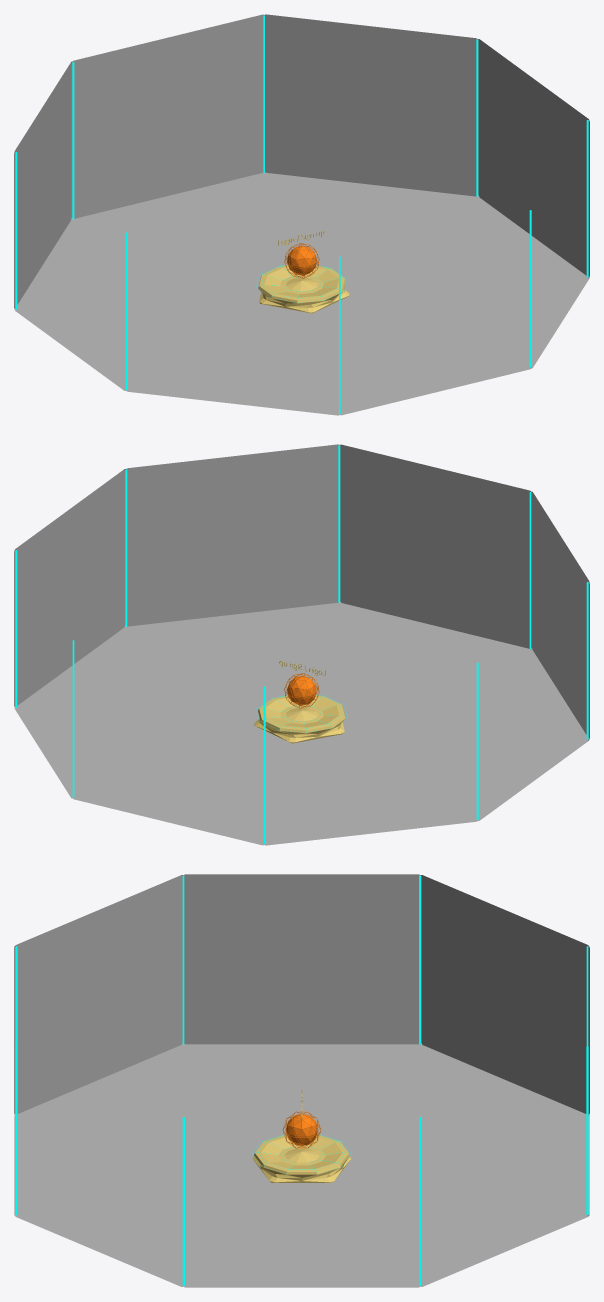
File: floorlab.glb
3 views of the same model, one above another, from view 1: azimuth 30°, elevation 25°; view 2: azimuth 150°, elevation 25°; view 3: azimuth 270°, elevation 25° (orthographic). The views are drawn at different scales.
Visible parts, largest first — view 1: wall, light, floor, star.001; view 2: wall, light, floor, star.001; view 3: wall, floor, light, star.001.
Boxes of the visible parts, x1=… form: wall: x1=14, y1=14, x2=589, y2=415; light: x1=15, y1=15, x2=588, y2=414; floor: x1=258, y1=265, x2=349, y2=313; star.001: x1=287, y1=245, x2=316, y2=275; wall: x1=14, y1=444, x2=589, y2=845; light: x1=15, y1=445, x2=588, y2=844; floor: x1=254, y1=695, x2=345, y2=743; star.001: x1=287, y1=675, x2=316, y2=705; wall: x1=14, y1=874, x2=589, y2=1287; floor: x1=252, y1=1135, x2=351, y2=1182; light: x1=15, y1=875, x2=588, y2=1285; star.001: x1=285, y1=1114, x2=318, y2=1145.
Size of the model in its own units: 24.16 by 7.88 by 24.16.
